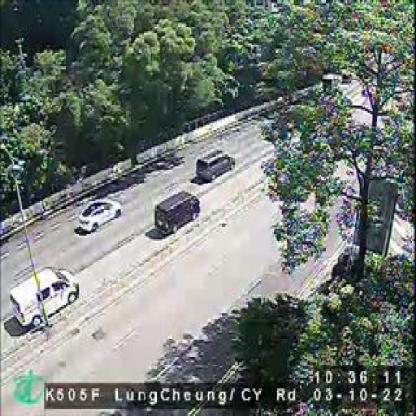Car: (9, 267, 77, 322), (153, 193, 199, 238), (78, 199, 121, 234), (197, 149, 236, 179)
